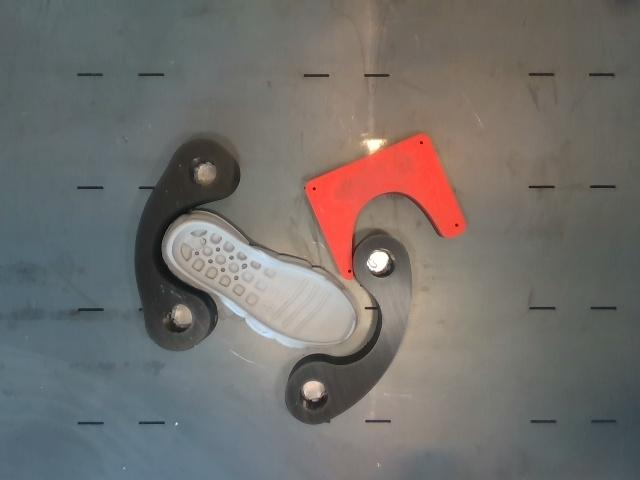shoes: (172, 223, 355, 343)
